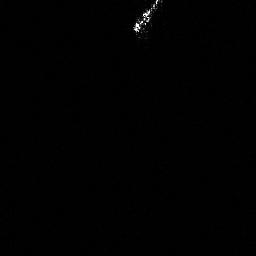ship: (131, 1, 166, 38)
